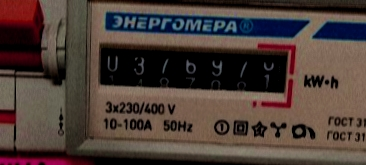0: (105, 49, 119, 71)
1: (261, 71, 273, 91)
3: (133, 54, 147, 75)
6: (184, 51, 199, 74)
7: (158, 51, 173, 76), (236, 55, 251, 78)
9: (210, 53, 224, 76)
screen: (90, 29, 301, 109)
